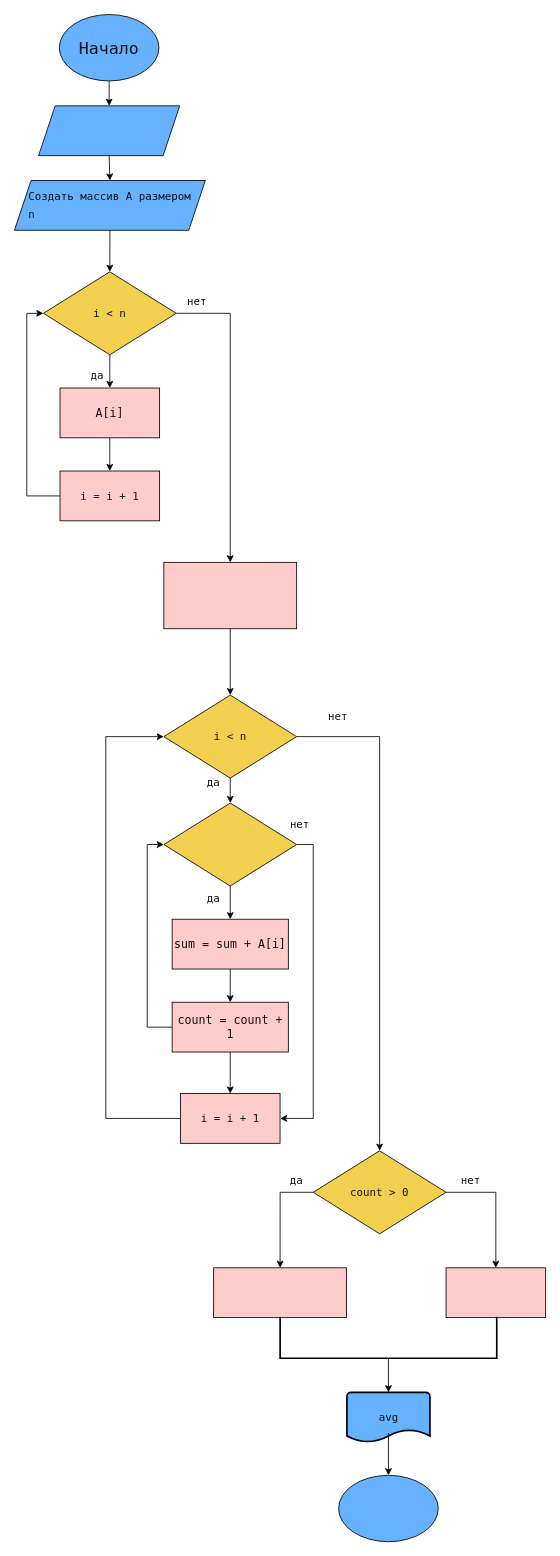
Image size: 560x1556. Some labels were removed from this diagram. Each missing label, with the box of its shape:
avg = 0: (445, 1267, 546, 1318)
avg = sum / count: (213, 1267, 347, 1318)
i % 2 == 0: (163, 802, 297, 886)
i = 0 sum = 0 count = 0: (163, 561, 297, 629)
n (размер массива): (38, 105, 180, 156)
Конец: (338, 1474, 438, 1542)
